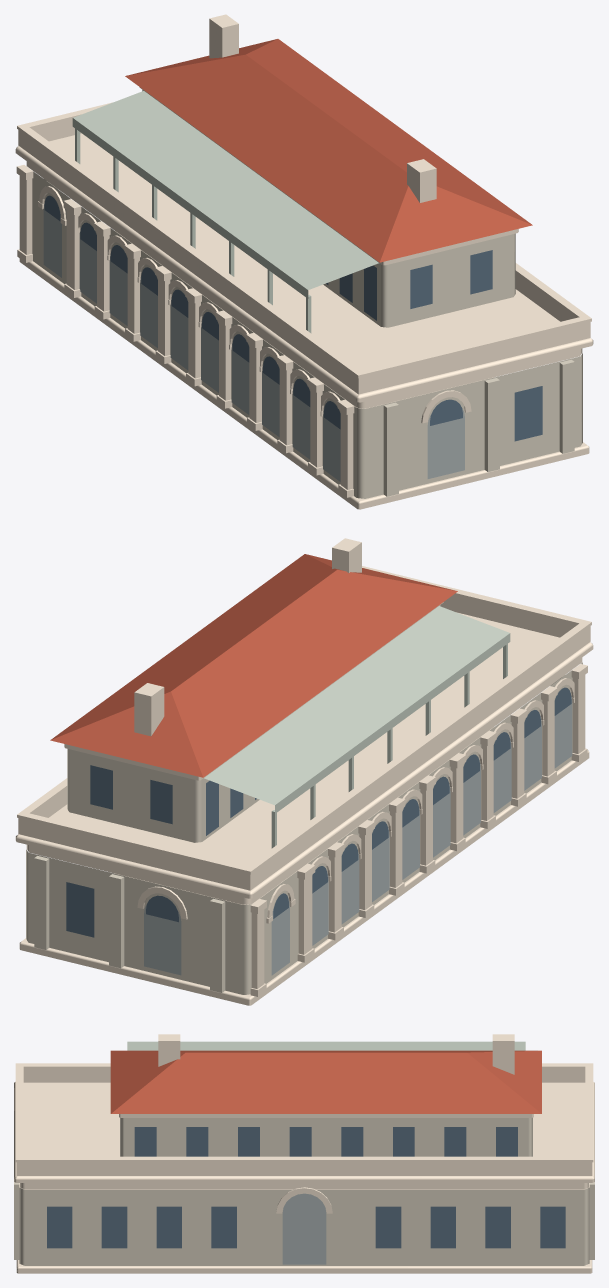
File: nyc-prospect-park-boathouse.glb
3 views of the same model, one above another, from view 1: azimuth 30°, elevation 25°; view 2: azimuth 150°, elevation 25°; view 3: azimuth 270°, elevation 25° (orthographic). The views are drawn at different scales.
Parts seen in each view (by area): view 1: Prospect Park Boathouse; view 2: Prospect Park Boathouse; view 3: Prospect Park Boathouse.
Part boxes in pixels (box(x1,y1,x2,y2)): Prospect Park Boathouse: box(15, 14, 593, 509); Prospect Park Boathouse: box(15, 538, 593, 1005); Prospect Park Boathouse: box(14, 1034, 594, 1273).
Bounding box in the file's own units: 12.8 × 12.3 × 31.8.
